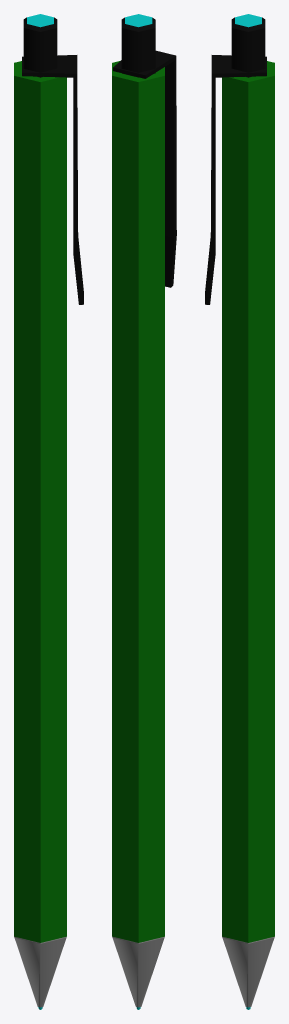
The model's file is WW_pen_prop.fbx.
3 renders of one model, left to right at view 1: azimuth 90°, elevation 25°; view 2: azimuth 150°, elevation 25°; view 3: azimuth 270°, elevation 25°, orthographic.
Visible parts, largest first — view 1: pen_geo; view 2: pen_geo; view 3: pen_geo.
Part boxes in pixels (left/top/right/bottom): pen_geo: left=14, top=14, right=83, bottom=1009; pen_geo: left=112, top=14, right=176, bottom=1009; pen_geo: left=205, top=14, right=274, bottom=1009.
Size of the model in its own units: 1.3 by 23.27 by 1.49.
